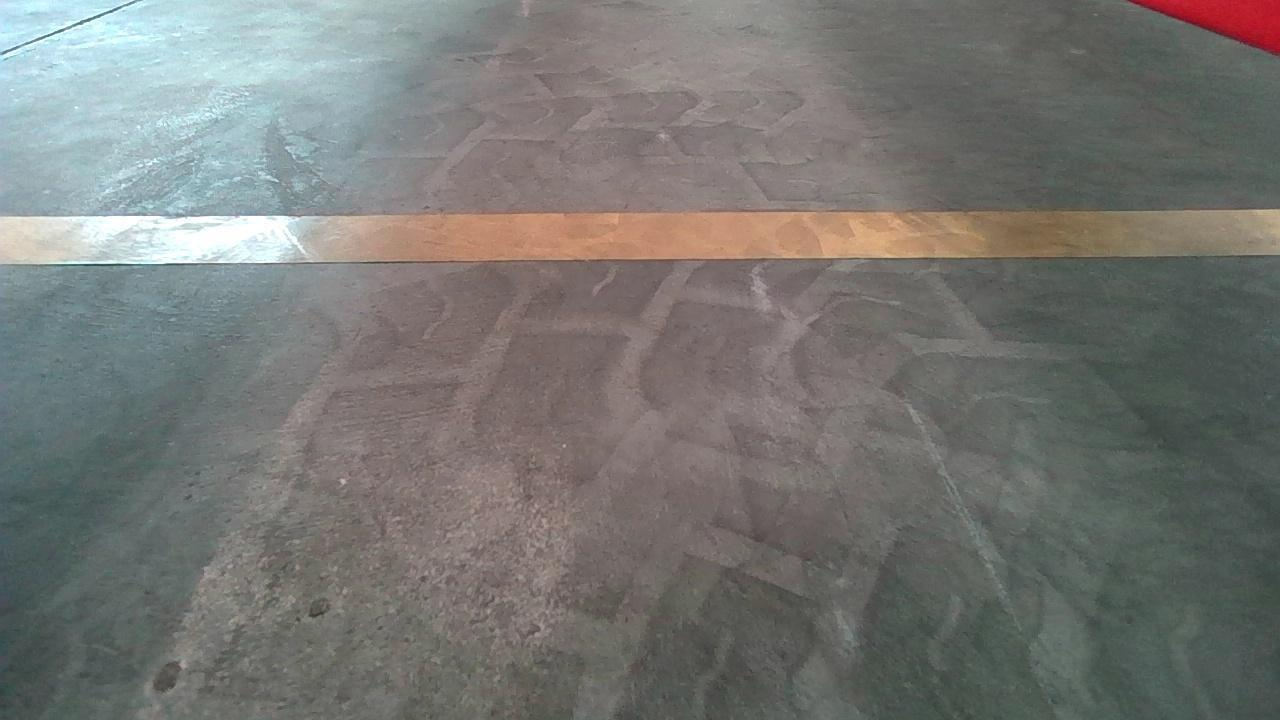yellow_line: (12, 200, 1280, 266)
